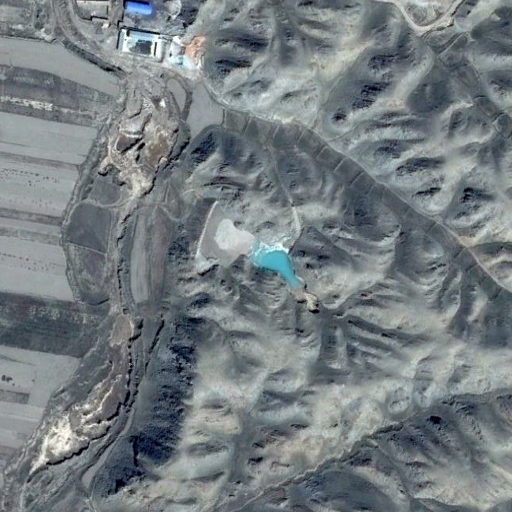tp: (200, 189, 322, 316)
